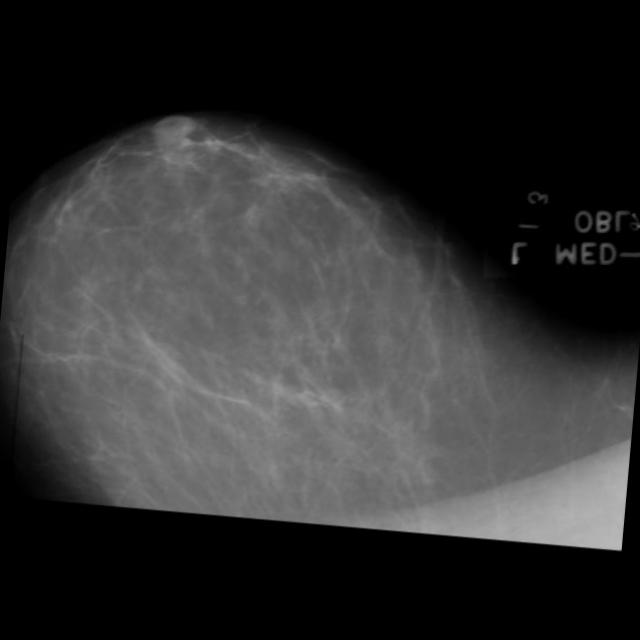CALC: (302, 348, 362, 408)
